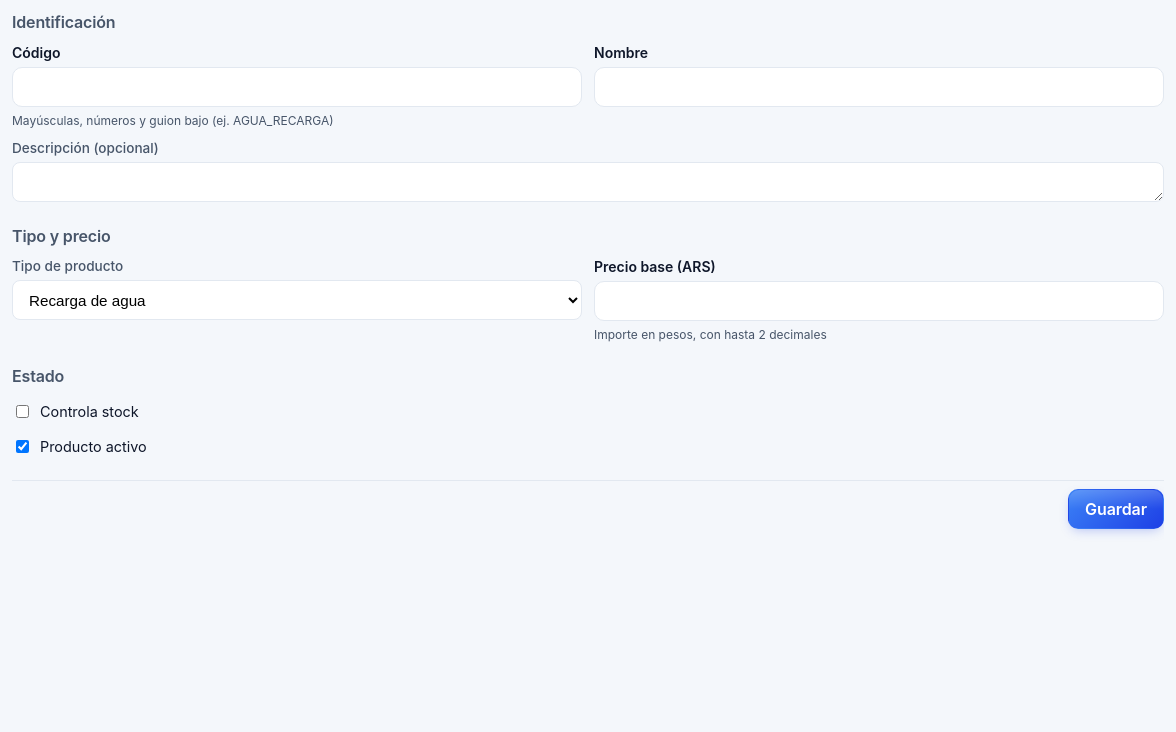
Test: ProductForm › rejects empty required fields
This screenshot has width=1176, height=732.
# Empty submission
Click the button "Guardar" at [1116, 509], box [1068, 489, 1164, 529]
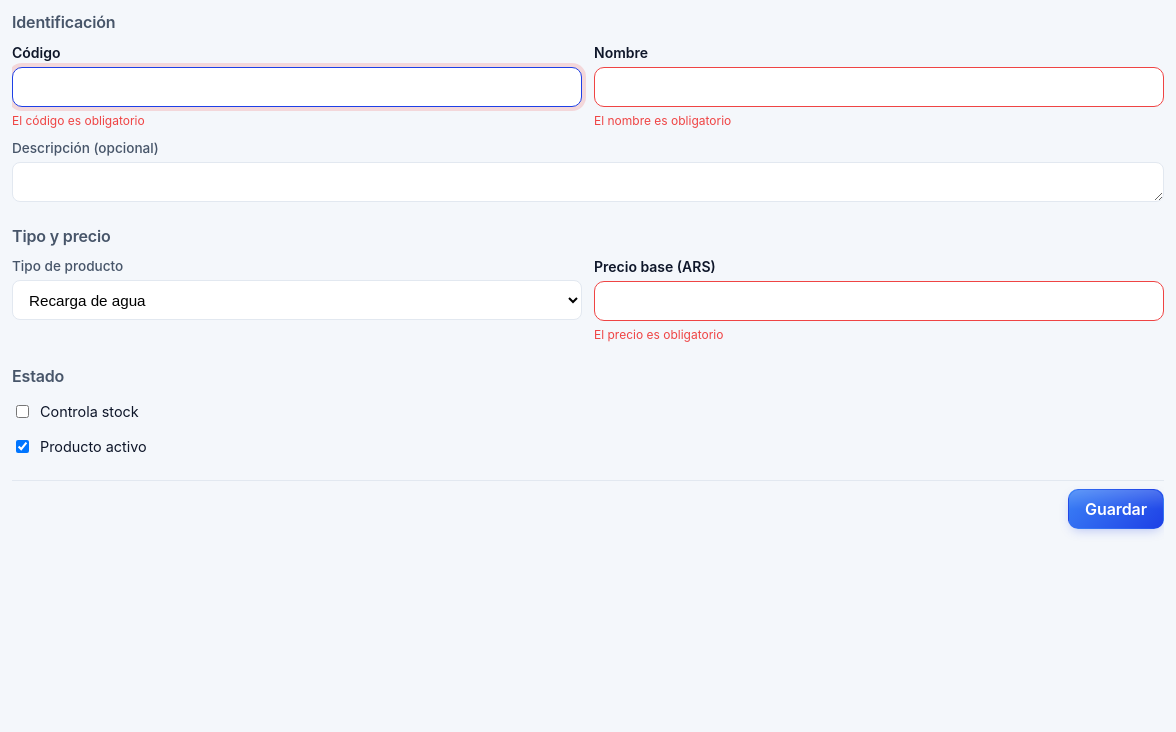
Expected: the text "El código es obligatorio" is shown, [12, 113, 145, 128]
